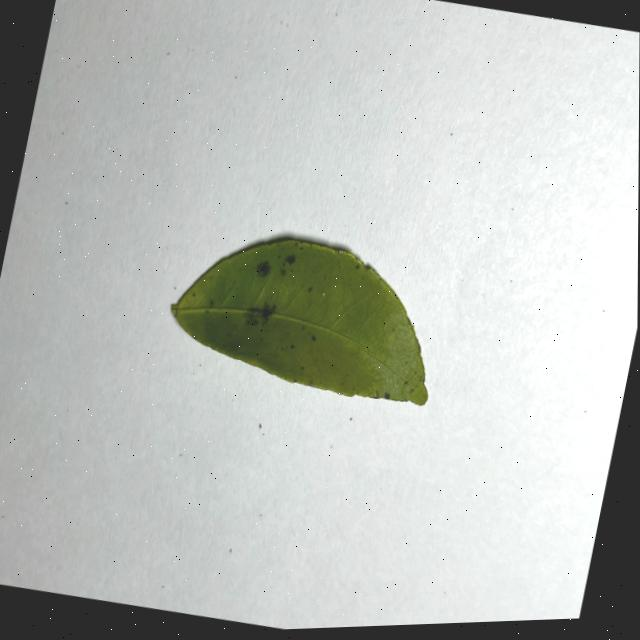sooty_mold: (172, 240, 428, 405)
